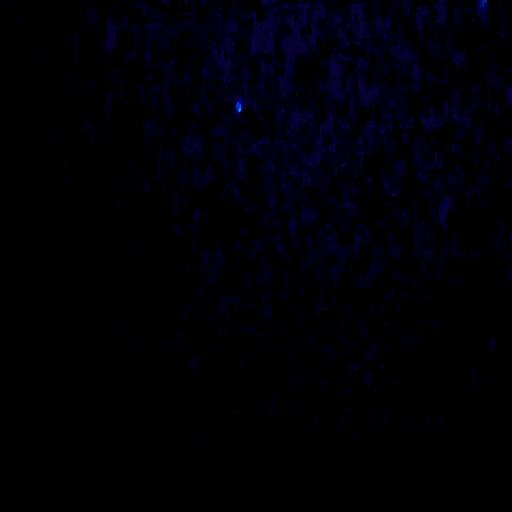object-detection-project: (236, 102, 242, 111)
